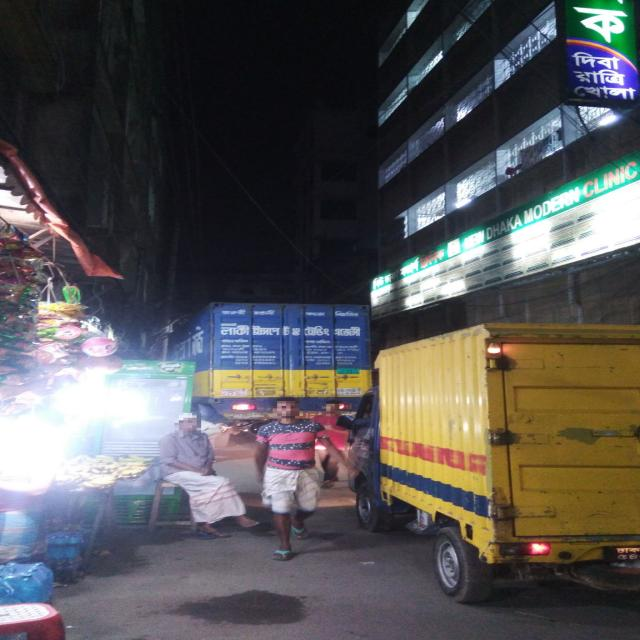pickup-van: (359, 312, 640, 600)
truck: (166, 290, 378, 422)
